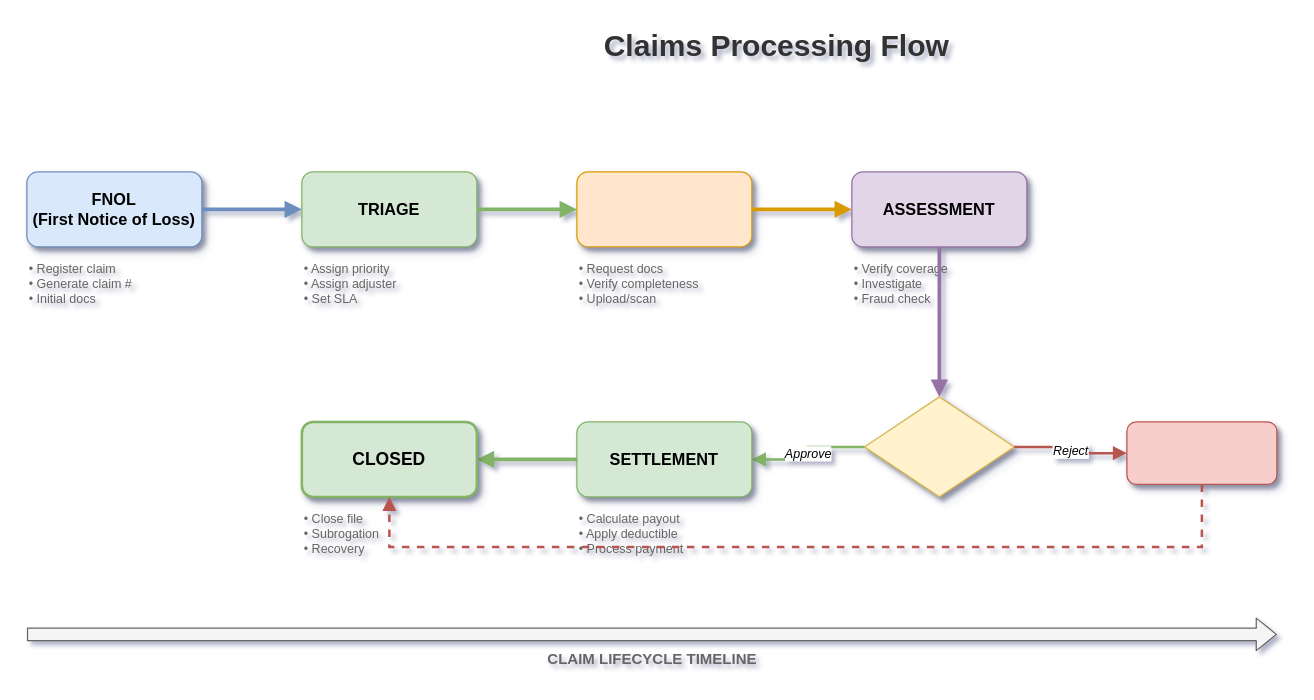
This 1314x700 diagram has some shape labels left out. The centre of each missing label's shape, as x and y in pixels:
DECISION: the point at 940,448
DOCUMENT COLLECTION: the point at 665,211
REJECTED: the point at 1202,454
